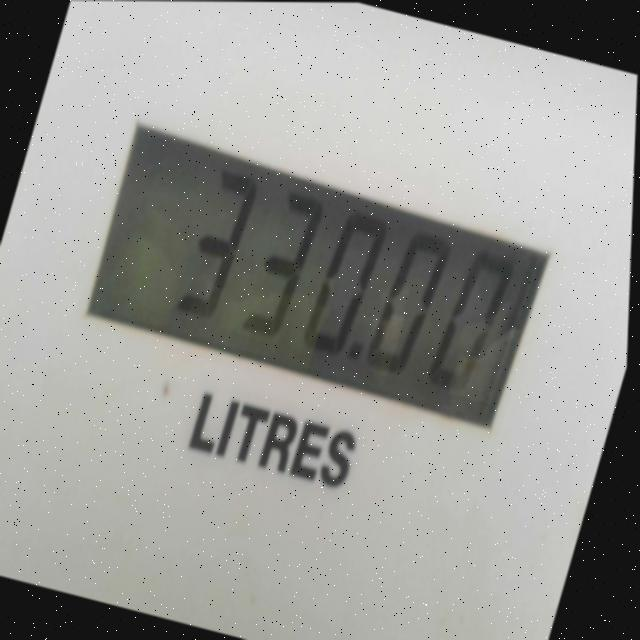.: (338, 330, 378, 390)
0: (357, 217, 463, 394), (298, 192, 397, 370), (427, 241, 531, 398)
3: (161, 150, 279, 346), (231, 177, 336, 363)
